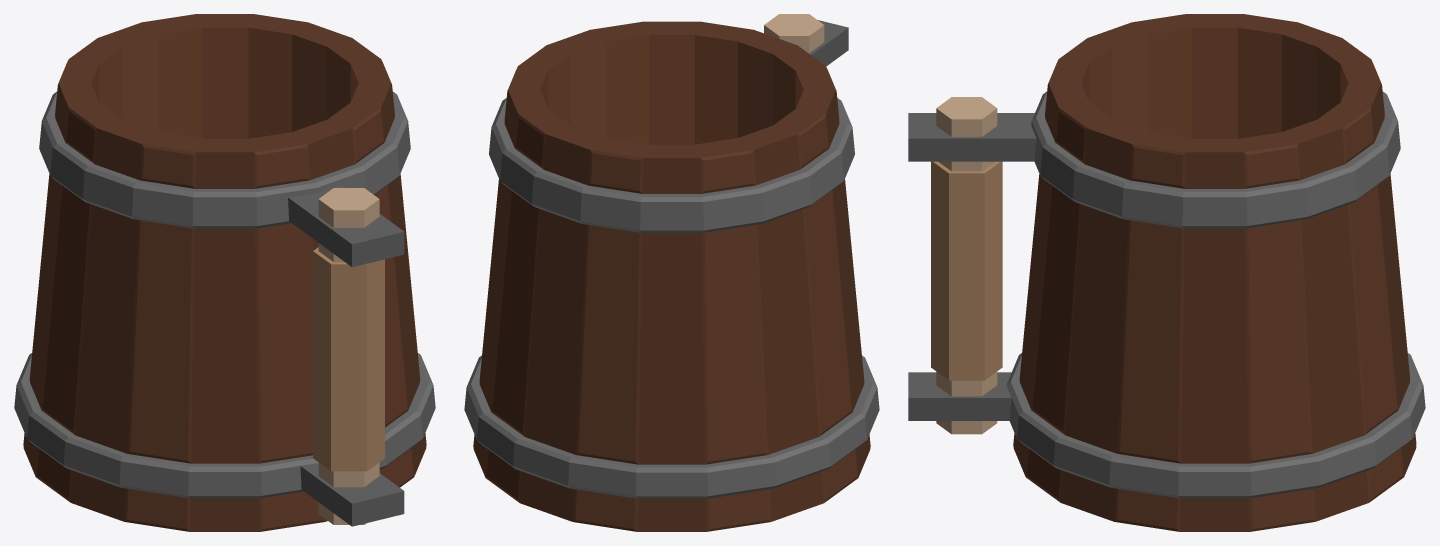
The model's file is BeerMug.fbx.
The picture shows the model from 3 angles, left to right: view 1: azimuth 30°, elevation 25°; view 2: azimuth 150°, elevation 25°; view 3: azimuth 270°, elevation 25°; orthographic projection.
Visible parts, largest first — view 1: Cylinder; view 2: Cylinder; view 3: Cylinder.
Boxes of the visible parts, x1,y1,x2,y2 form: Cylinder: [14, 14, 435, 531]; Cylinder: [464, 14, 879, 531]; Cylinder: [908, 14, 1425, 531].
Size of the model in its own units: 206 by 200 by 257.
